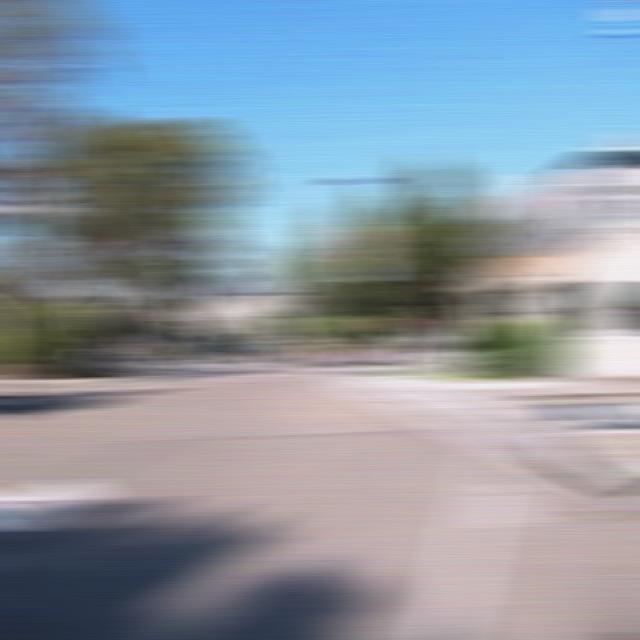stop_sign: (370, 310, 409, 330)
